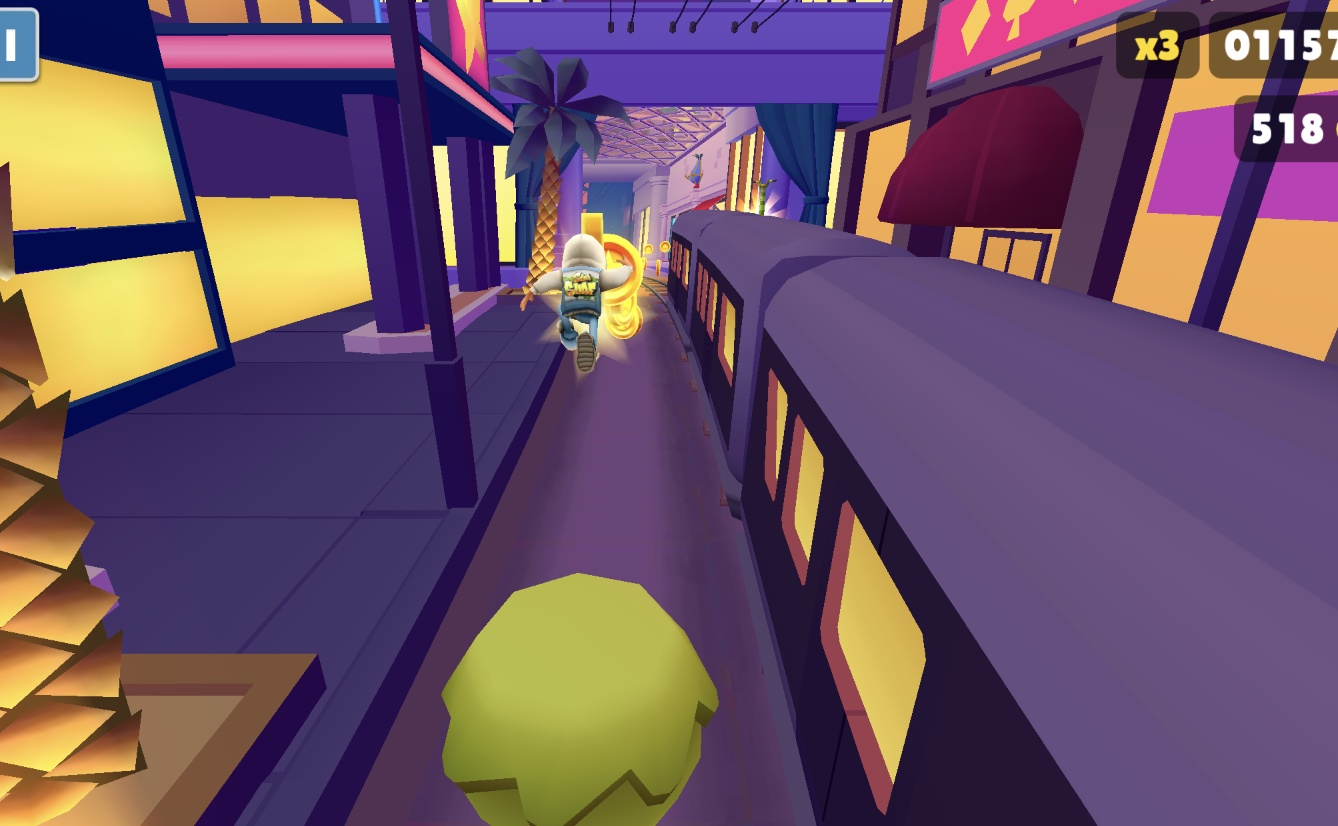bush: (444, 571, 719, 826)
train: (657, 215, 1338, 826)
